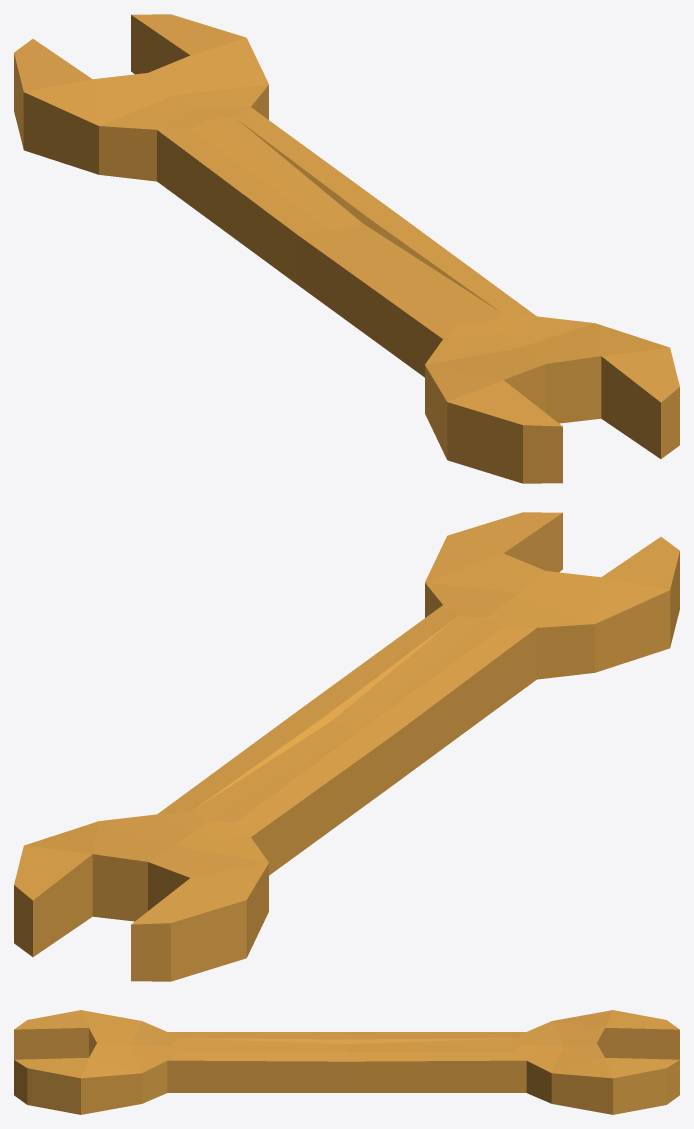
File: wrench.fbx
3 renders of one model, top to bottom at view 1: azimuth 30°, elevation 25°; view 2: azimuth 150°, elevation 25°; view 3: azimuth 270°, elevation 25°, orthographic. The views are drawn at different scales.
Visible parts, largest first — view 1: wrench; view 2: wrench; view 3: wrench.
Boxes of the visible parts, x1=… form: wrench: x1=14, y1=14, x2=679, y2=483; wrench: x1=14, y1=512, x2=679, y2=981; wrench: x1=14, y1=1010, x2=679, y2=1114.
Bounding box in the file's own units: 0.0598 × 0.016 × 0.2463.
